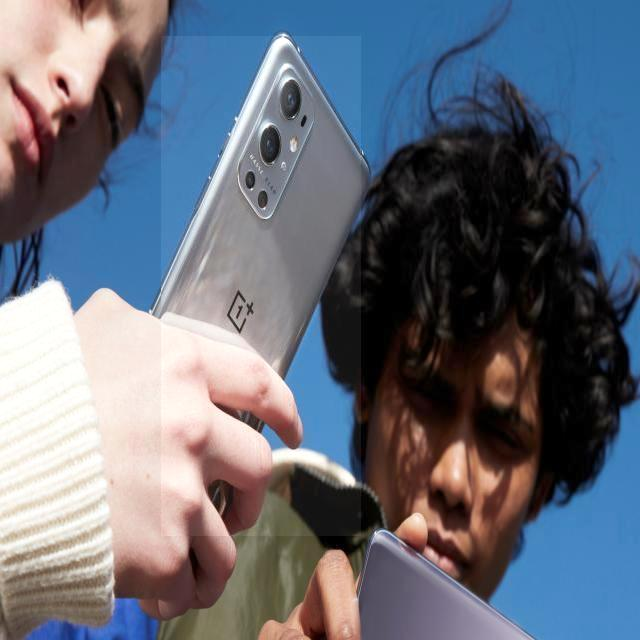lens_back: (276, 74, 305, 124), (255, 122, 284, 166)
phone: (162, 37, 362, 537)
